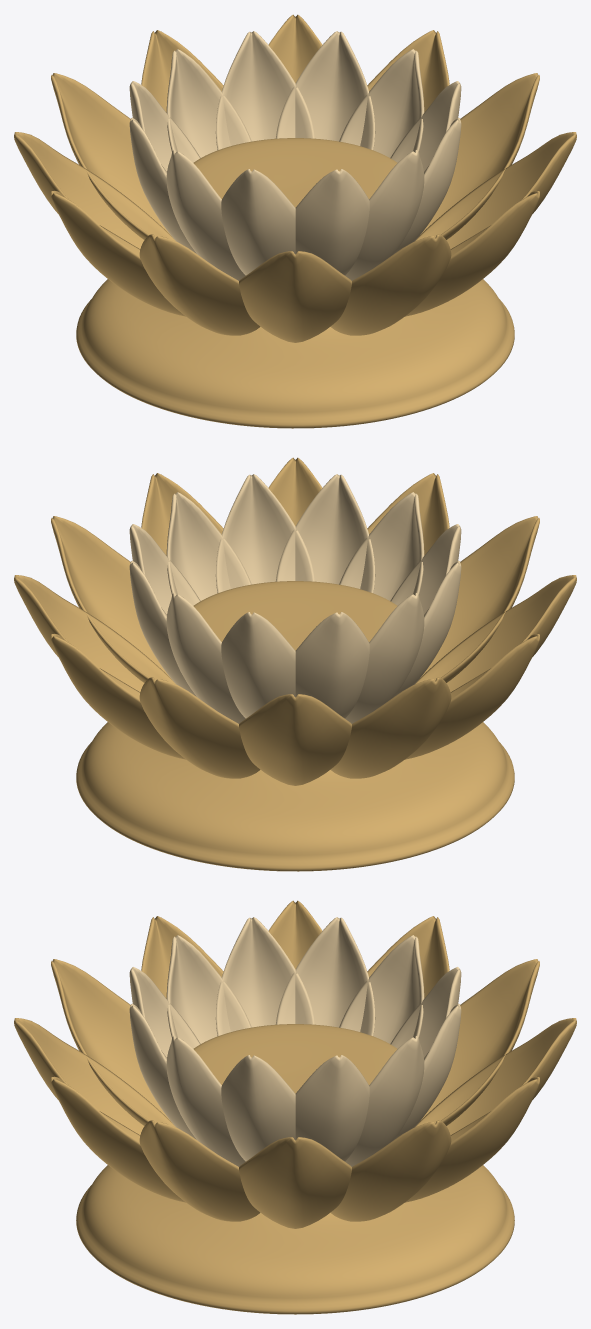
Rendered from divi-lotus.glb.
3 renders of one model, top to bottom at view 1: azimuth 30°, elevation 25°; view 2: azimuth 150°, elevation 25°; view 3: azimuth 270°, elevation 25°, orthographic.
Visible parts, largest first — view 1: Lotus petals 1, Lotus petals 2, Pedestal; view 2: Lotus petals 1, Lotus petals 2, Pedestal; view 3: Lotus petals 1, Lotus petals 2, Pedestal.
Boxes of the visible parts, x1=… form: Lotus petals 1: x1=14, y1=14, x2=576, y2=342; Lotus petals 2: x1=129, y1=31, x2=461, y2=280; Pedestal: x1=76, y1=138, x2=514, y2=428; Lotus petals 1: x1=14, y1=457, x2=576, y2=785; Lotus petals 2: x1=129, y1=474, x2=461, y2=723; Pedestal: x1=76, y1=581, x2=514, y2=871; Lotus petals 1: x1=14, y1=900, x2=576, y2=1228; Lotus petals 2: x1=129, y1=917, x2=461, y2=1166; Pedestal: x1=76, y1=1024, x2=514, y2=1314.
Bounding box in the file's own units: 2.26 × 1.07 × 2.26.
